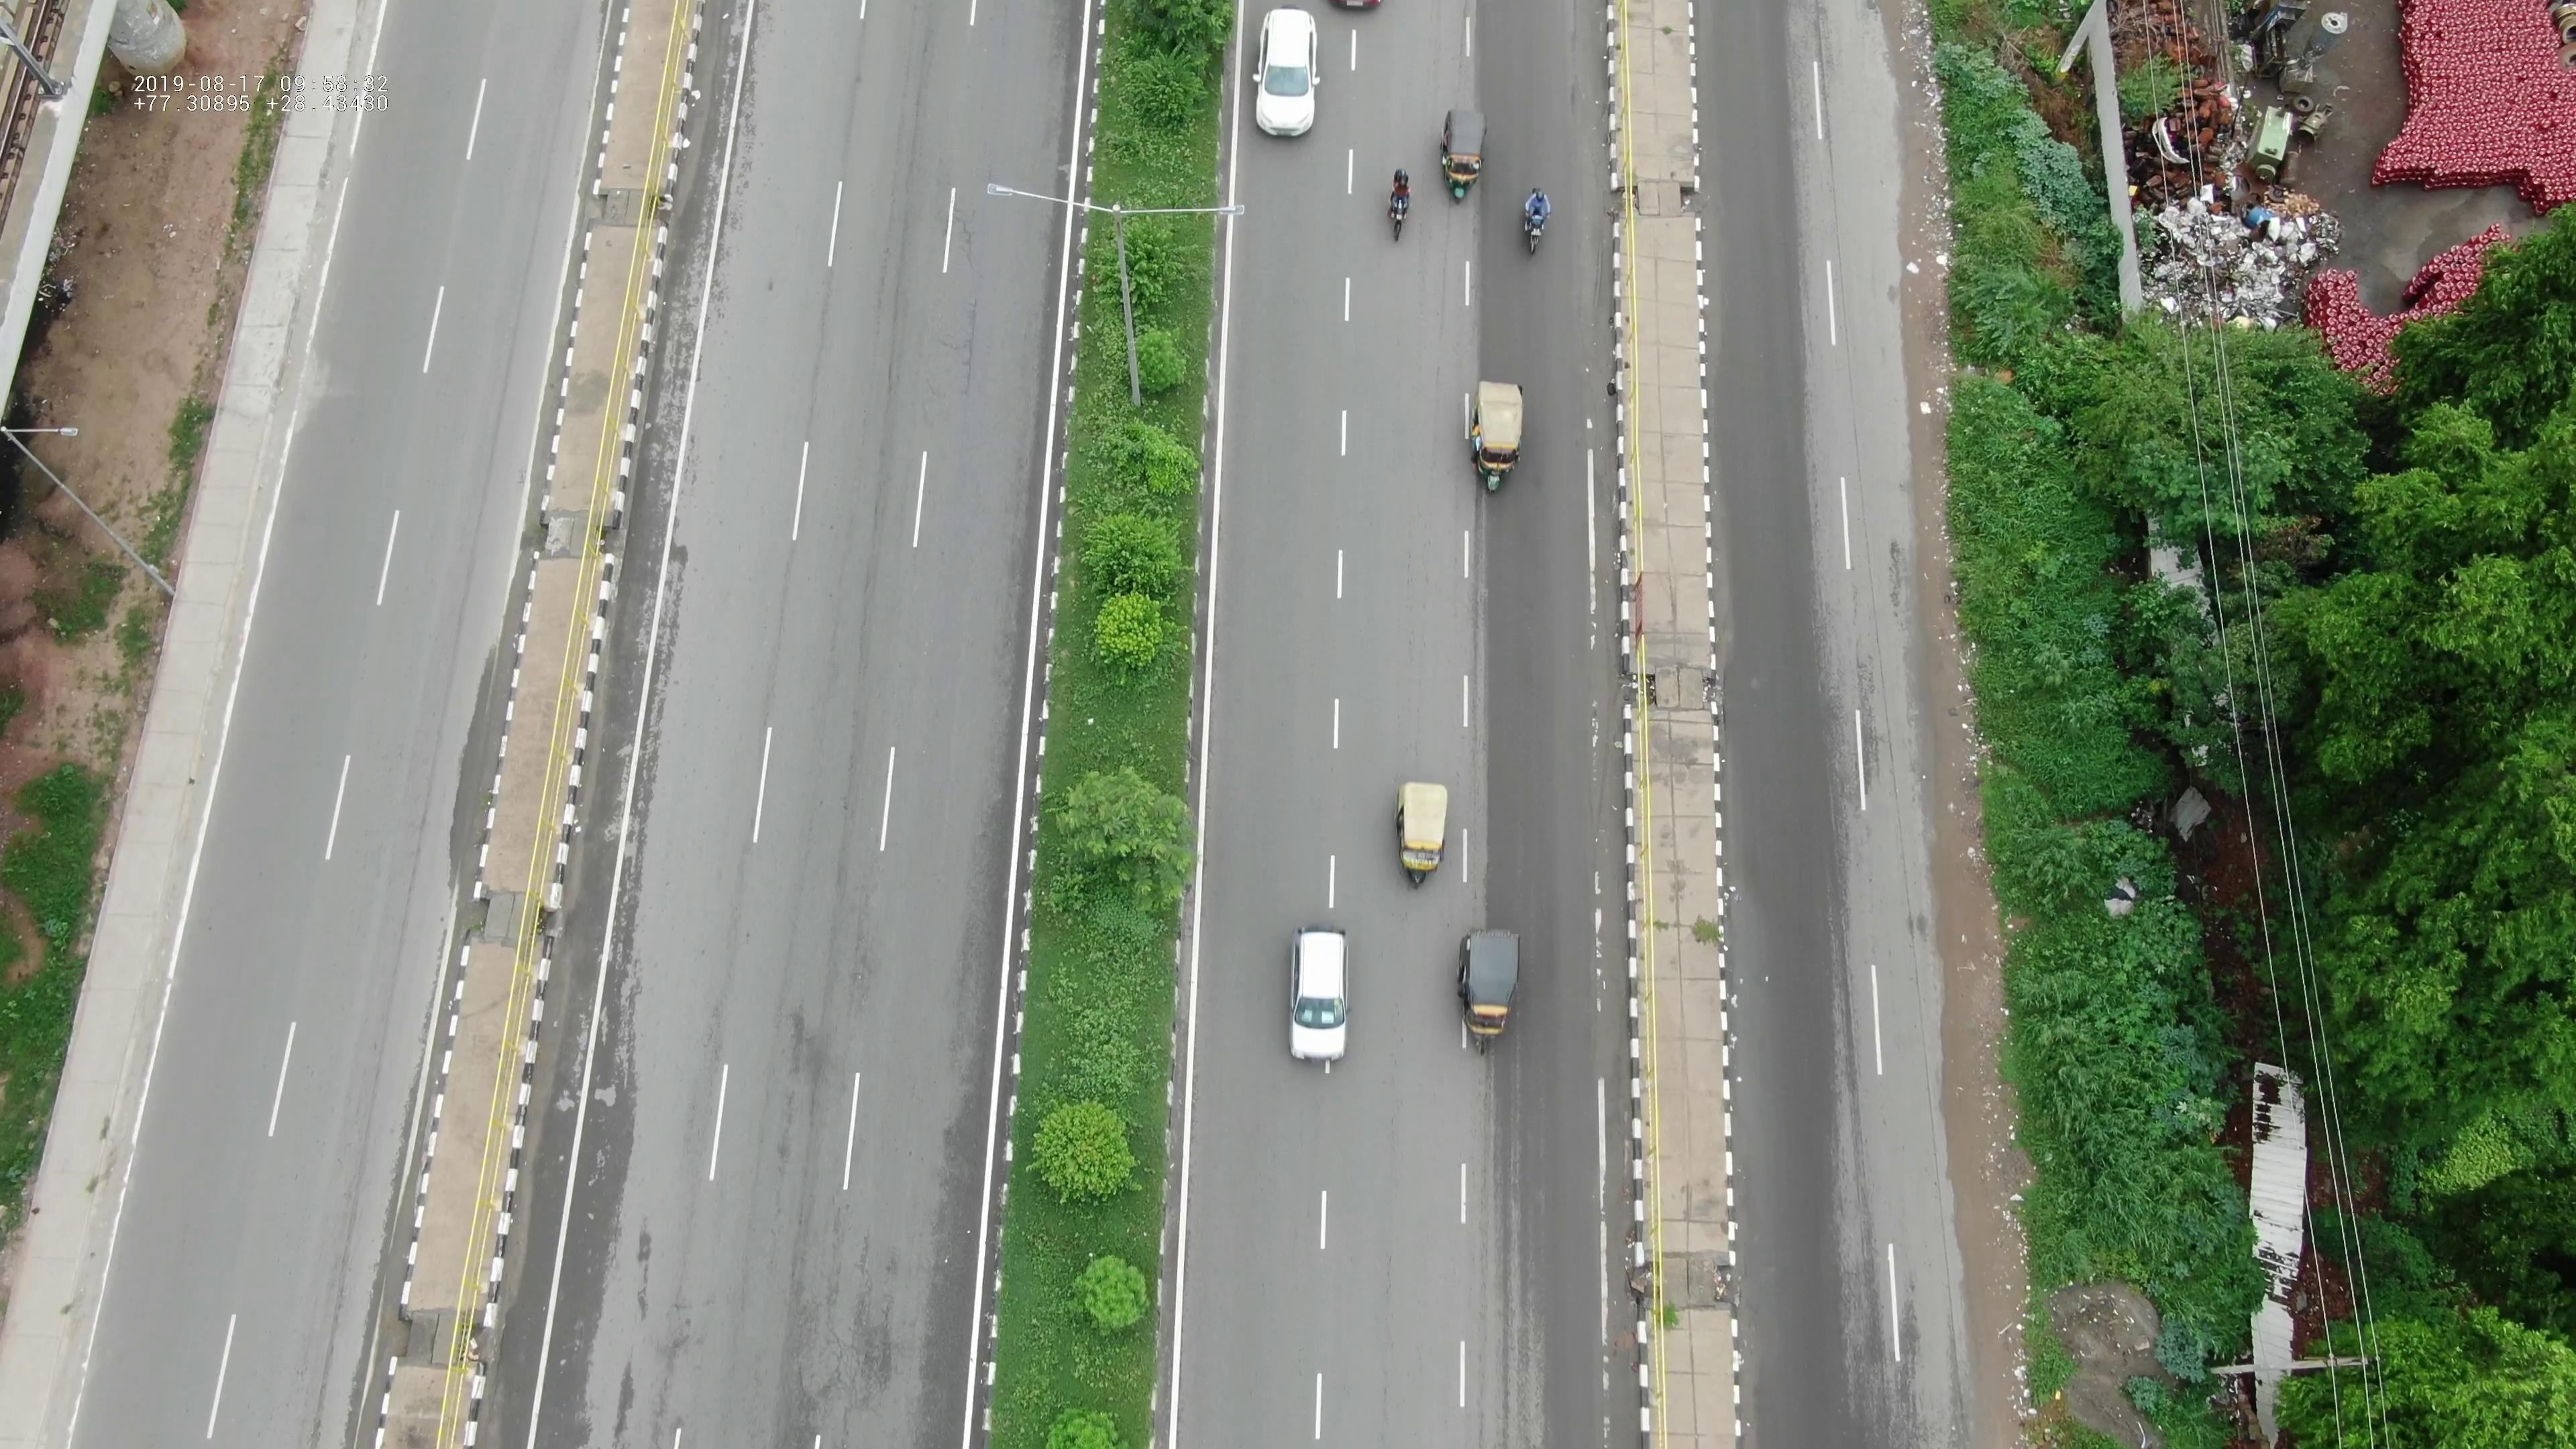Hair_cracks: (789, 1233, 925, 1408), (918, 202, 1005, 421)
